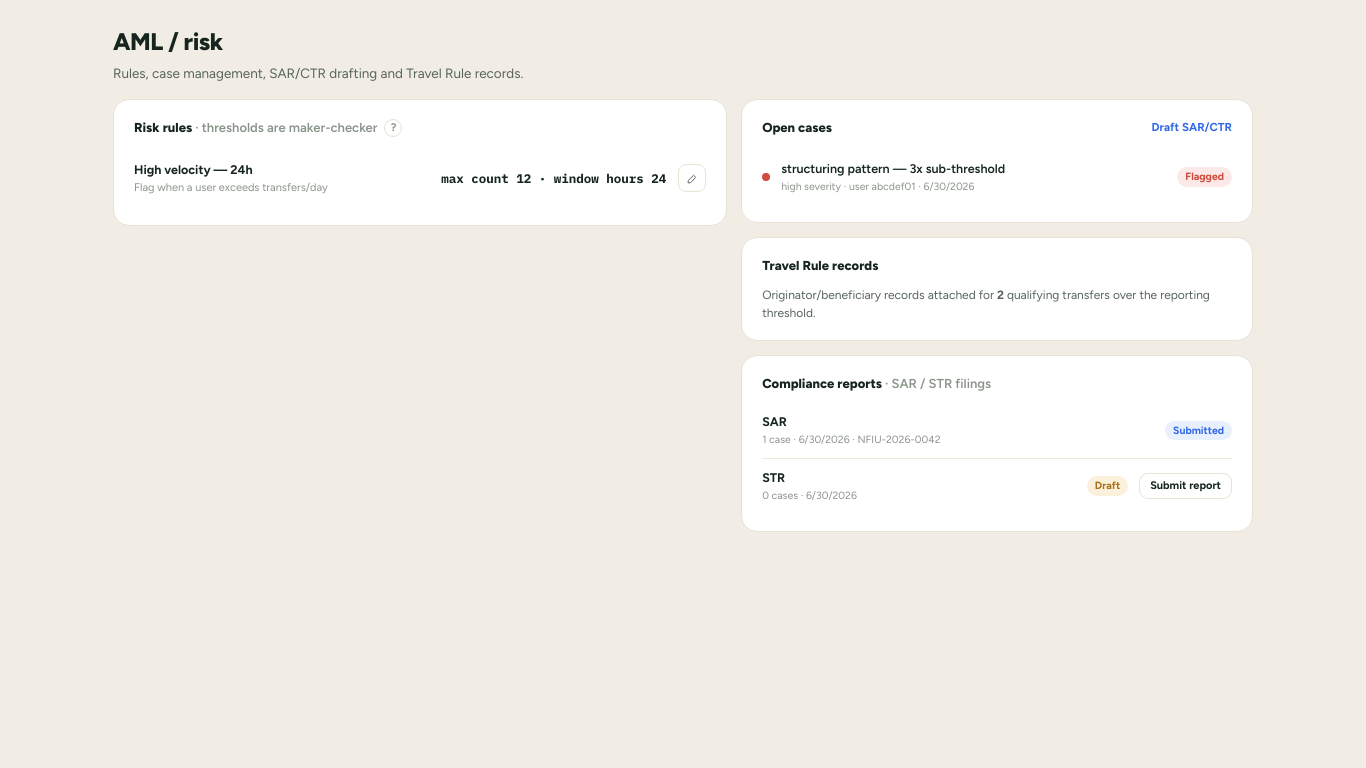
it: AmlPage › opens the case-detail drill-in with the raw screening payload + disposition form
Click the button with aria-label "Open case structuring pattern": (997, 177) left=762, top=150, right=1232, bottom=204
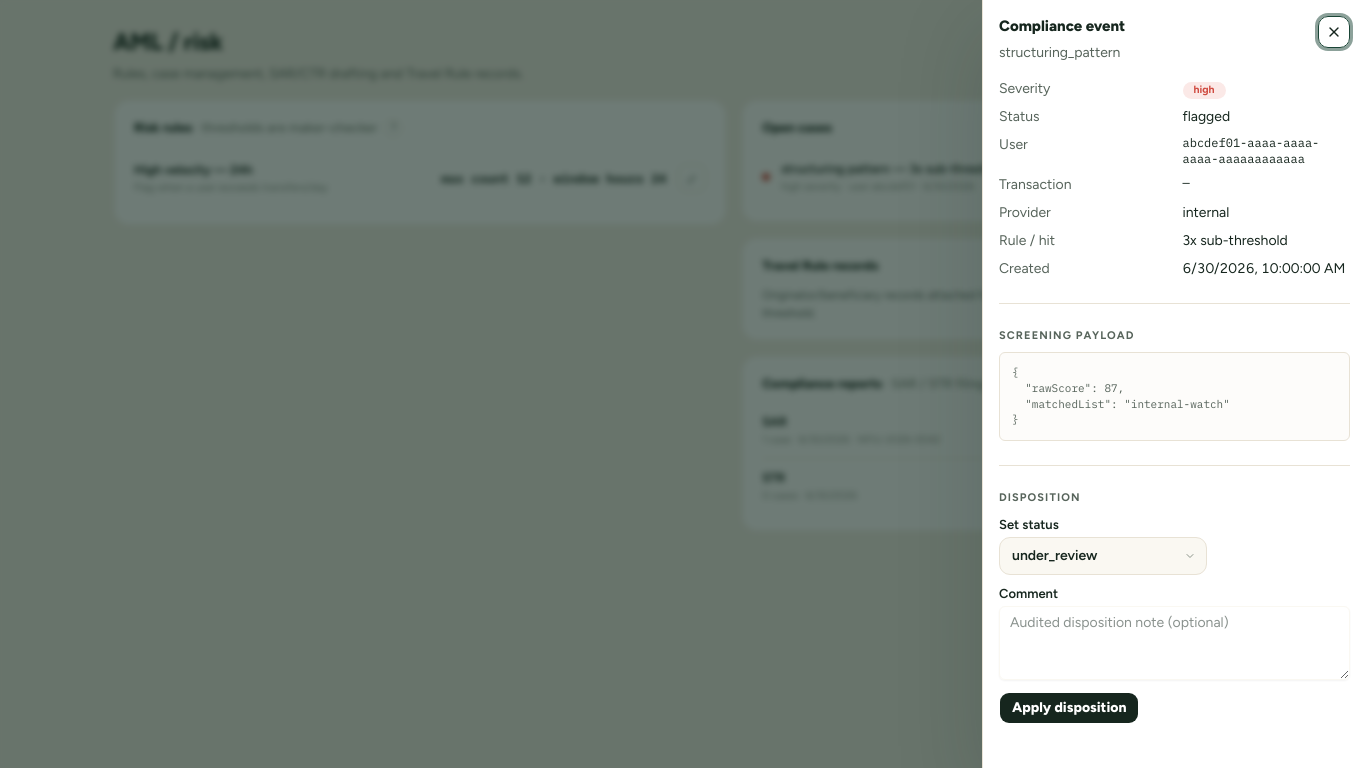
Now the text "{ \"rawScore\": 87, \"matchedList\": \"internal-watch\" }" is shown, box left=999, top=352, right=1350, bottom=441
Now the dropdown named "Disposition status" is shown, box left=999, top=537, right=1207, bottom=575
